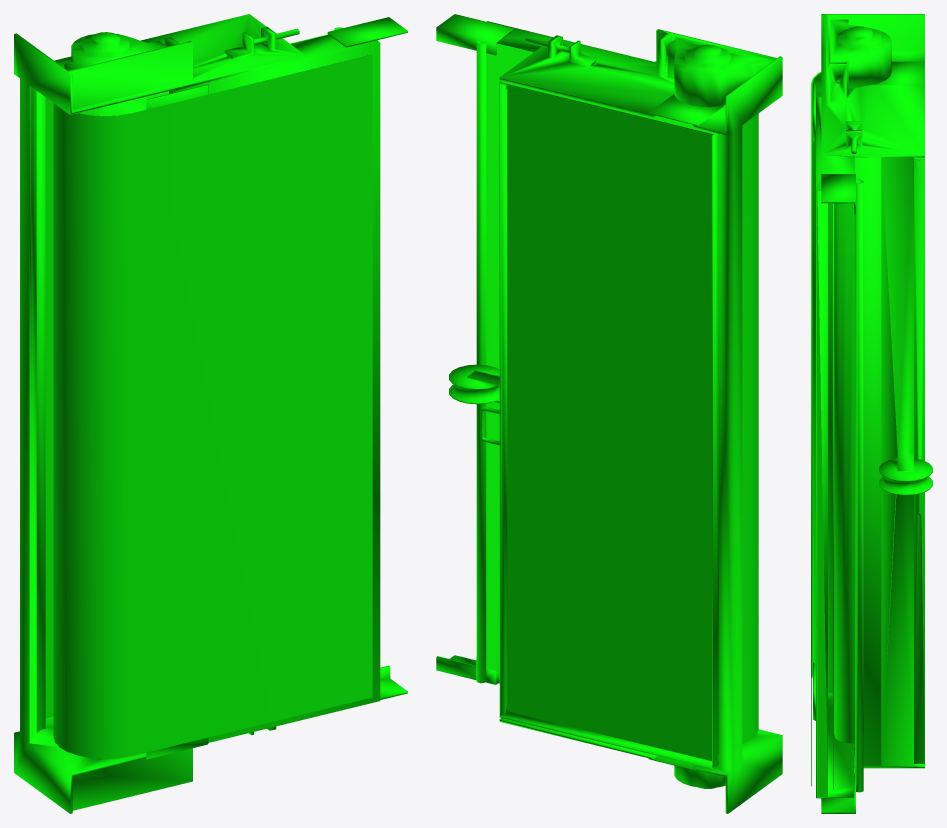
File: TAI-02-60.fbx
The picture shows the model from 3 angles, left to right: view 1: azimuth 30°, elevation 25°; view 2: azimuth 150°, elevation 25°; view 3: azimuth 270°, elevation 25°; orthographic projection. The views are drawn at different scales.
Parts seen in each view (by area): view 1: polySurface20; view 2: polySurface20; view 3: polySurface20.
Boxes of the visible parts, <box> form: polySurface20: <box>14,14,407,813</box>; polySurface20: <box>436,14,782,813</box>; polySurface20: <box>811,14,932,813</box>.
Size of the model in its own units: 33 by 70.5 by 11.16.
